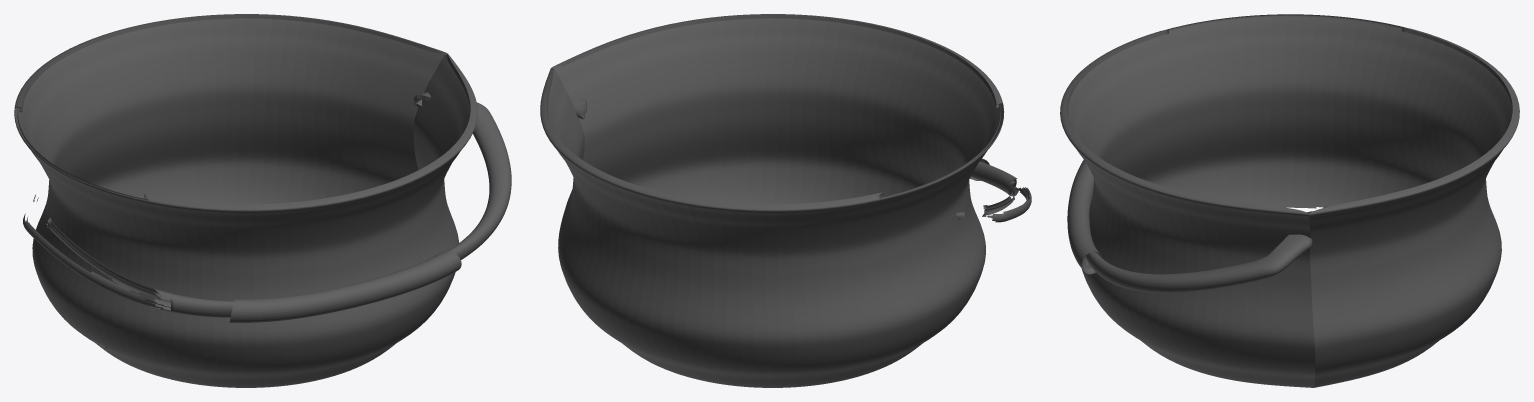
File: kotle.fbx
3 renders of one model, left to right at view 1: azimuth 30°, elevation 25°; view 2: azimuth 150°, elevation 25°; view 3: azimuth 270°, elevation 25°, orthographic.
Parts seen in each view (by area): view 1: NurbsPath.001; view 2: NurbsPath.001; view 3: NurbsPath.001.
Part boxes in pixels (bbox=[...]): NurbsPath.001: bbox=[14, 14, 511, 387]; NurbsPath.001: bbox=[540, 14, 1031, 387]; NurbsPath.001: bbox=[1060, 14, 1519, 387].
Bounding box in the file's own units: 36.57 × 16.85 × 31.93.
